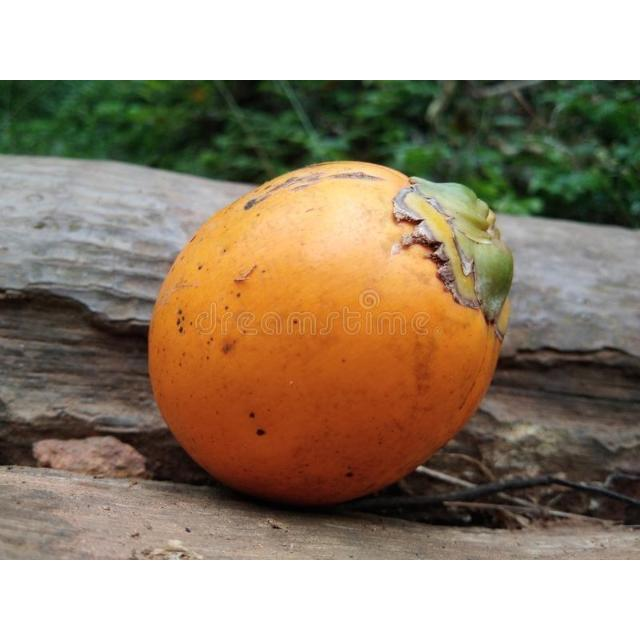good: (147, 163, 514, 510)
